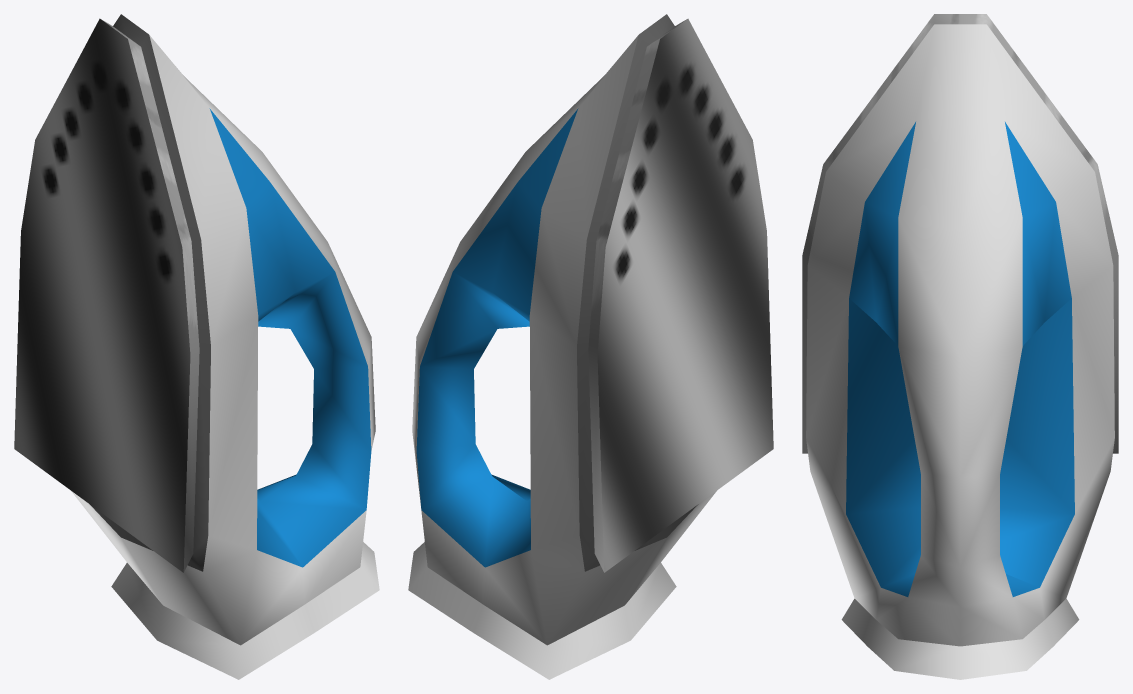
The model's file is iron.FBX.
3 views of the same model, side by side, from view 1: azimuth 30°, elevation 25°; view 2: azimuth 150°, elevation 25°; view 3: azimuth 270°, elevation 25° (orthographic). The views are drawn at different scales.
Parts seen in each view (by area): view 1: iron; view 2: iron; view 3: iron.
Part boxes in pixels (x1,y1,x2,y2): iron: (14,14,379,679); iron: (408,14,773,679); iron: (802,14,1118,679).
Size of the model in its own units: 52.09 by 112 by 55.24.
